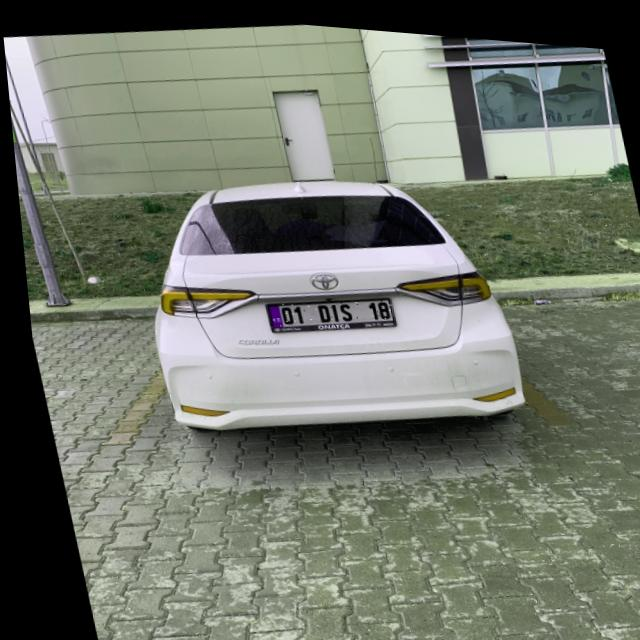license_plate: (257, 285, 390, 330)
